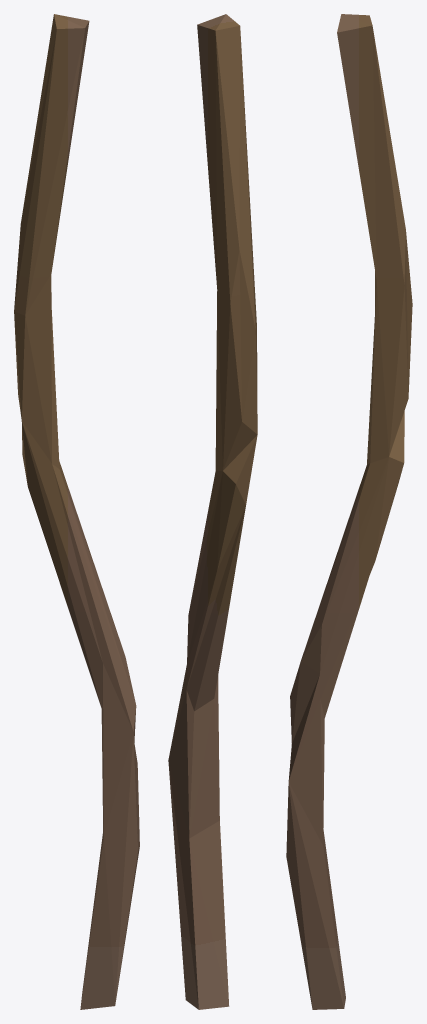
Rendered from YN_Vines3.fbx.
3 renders of one model, left to right at view 1: azimuth 90°, elevation 25°; view 2: azimuth 210°, elevation 25°; view 3: azimuth 270°, elevation 25°, orthographic.
Parts seen in each view (by area): view 1: YN_Vines3; view 2: YN_Vines3; view 3: YN_Vines3.
Boxes of the visible parts, bbox=[...] form: YN_Vines3: bbox=[14, 14, 139, 1009]; YN_Vines3: bbox=[168, 14, 257, 1009]; YN_Vines3: bbox=[286, 14, 412, 1009].
Bounding box in the file's own units: 0.1852 × 5.09 × 0.5908.
